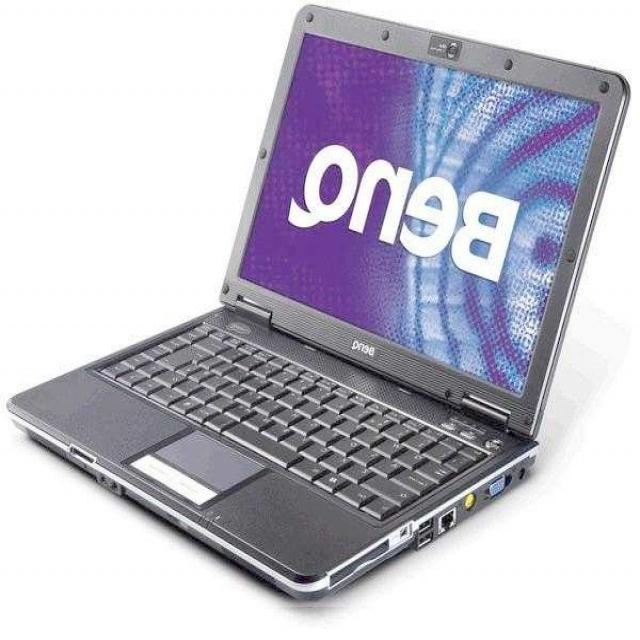-keyboard-: (0, 2, 638, 607)
